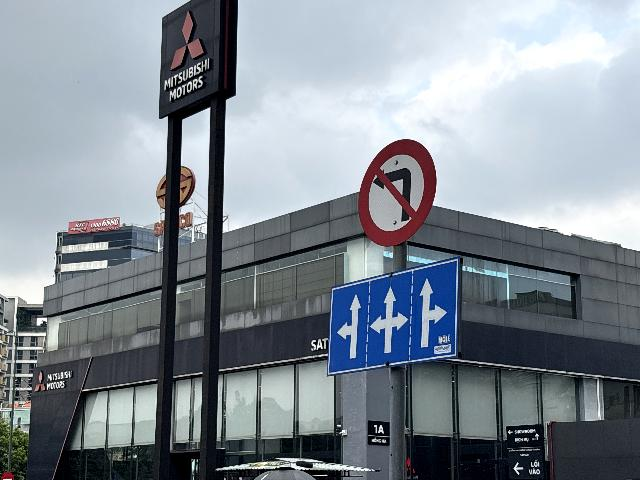cam-re-trai: (357, 138, 437, 248)
